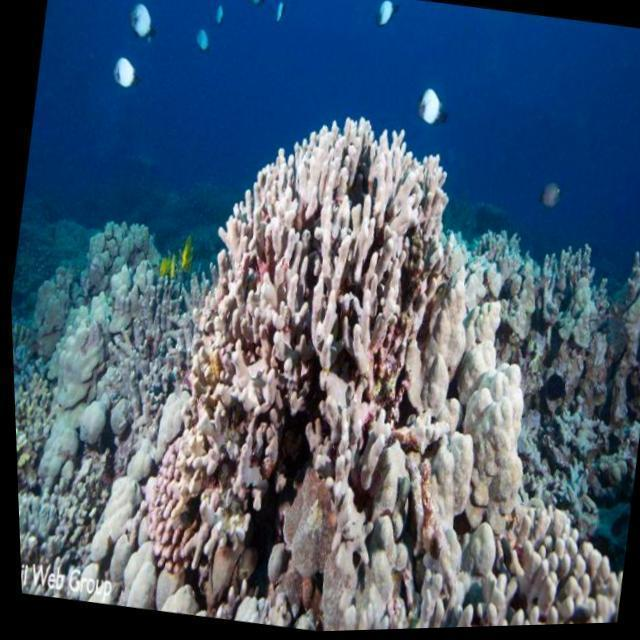Dead Coral: (450, 227, 640, 436)
